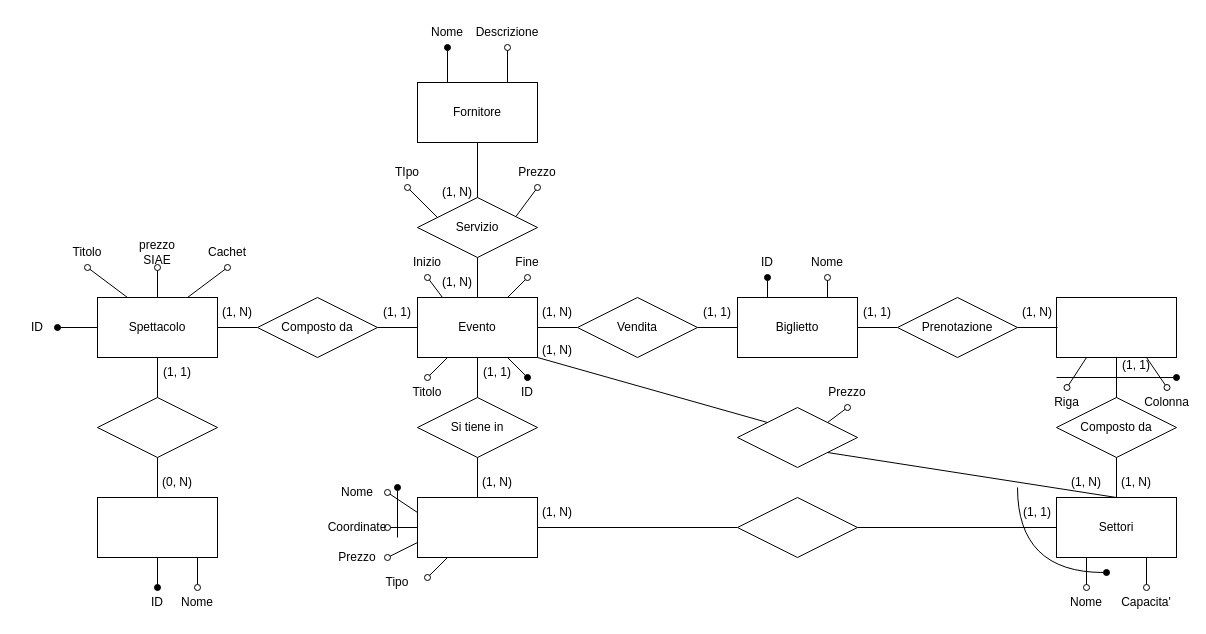
Some shapes in this 1206 by 634 pixel diagram are drawn without their labels. Each missing label, with the centre of its shape:
"Artista" goes at (x=157, y=527).
"Costo" goes at (x=797, y=437).
"Diviso in" goes at (x=797, y=527).
"Luogo" goes at (x=477, y=527).
"Performa" goes at (x=157, y=427).
"Posto" goes at (x=1116, y=327).
